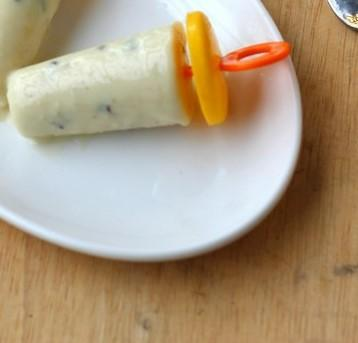Kulfi: (7, 22, 199, 139), (0, 0, 61, 109)
